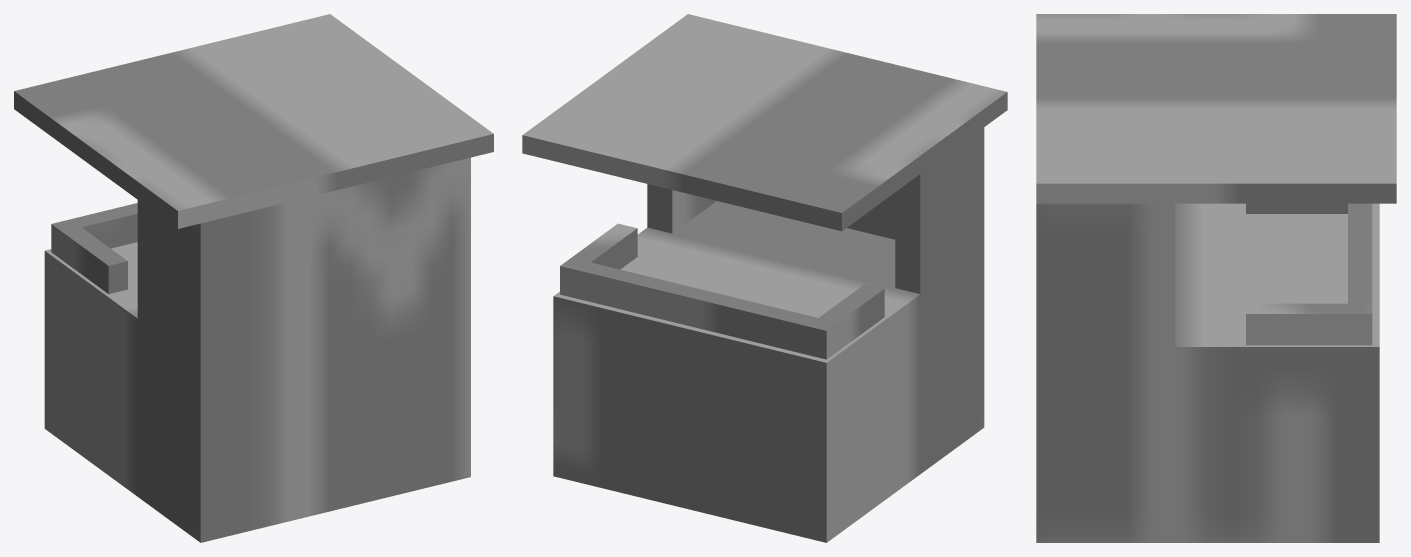
The model's file is prop_Balcony.fbx.
3 views of the same model, side by side, from view 1: azimuth 30°, elevation 25°; view 2: azimuth 150°, elevation 25°; view 3: azimuth 270°, elevation 25° (orthographic). The views are drawn at different scales.
Visible parts, largest first — view 1: prop_Balcony; view 2: prop_Balcony; view 3: prop_Balcony.
Part boxes in pixels (x1,y1,x2,y2): prop_Balcony: (14,14,493,542); prop_Balcony: (522,14,1007,542); prop_Balcony: (1036,14,1396,542).
Bounding box in the file's own units: 1232 × 1257 × 1105.
